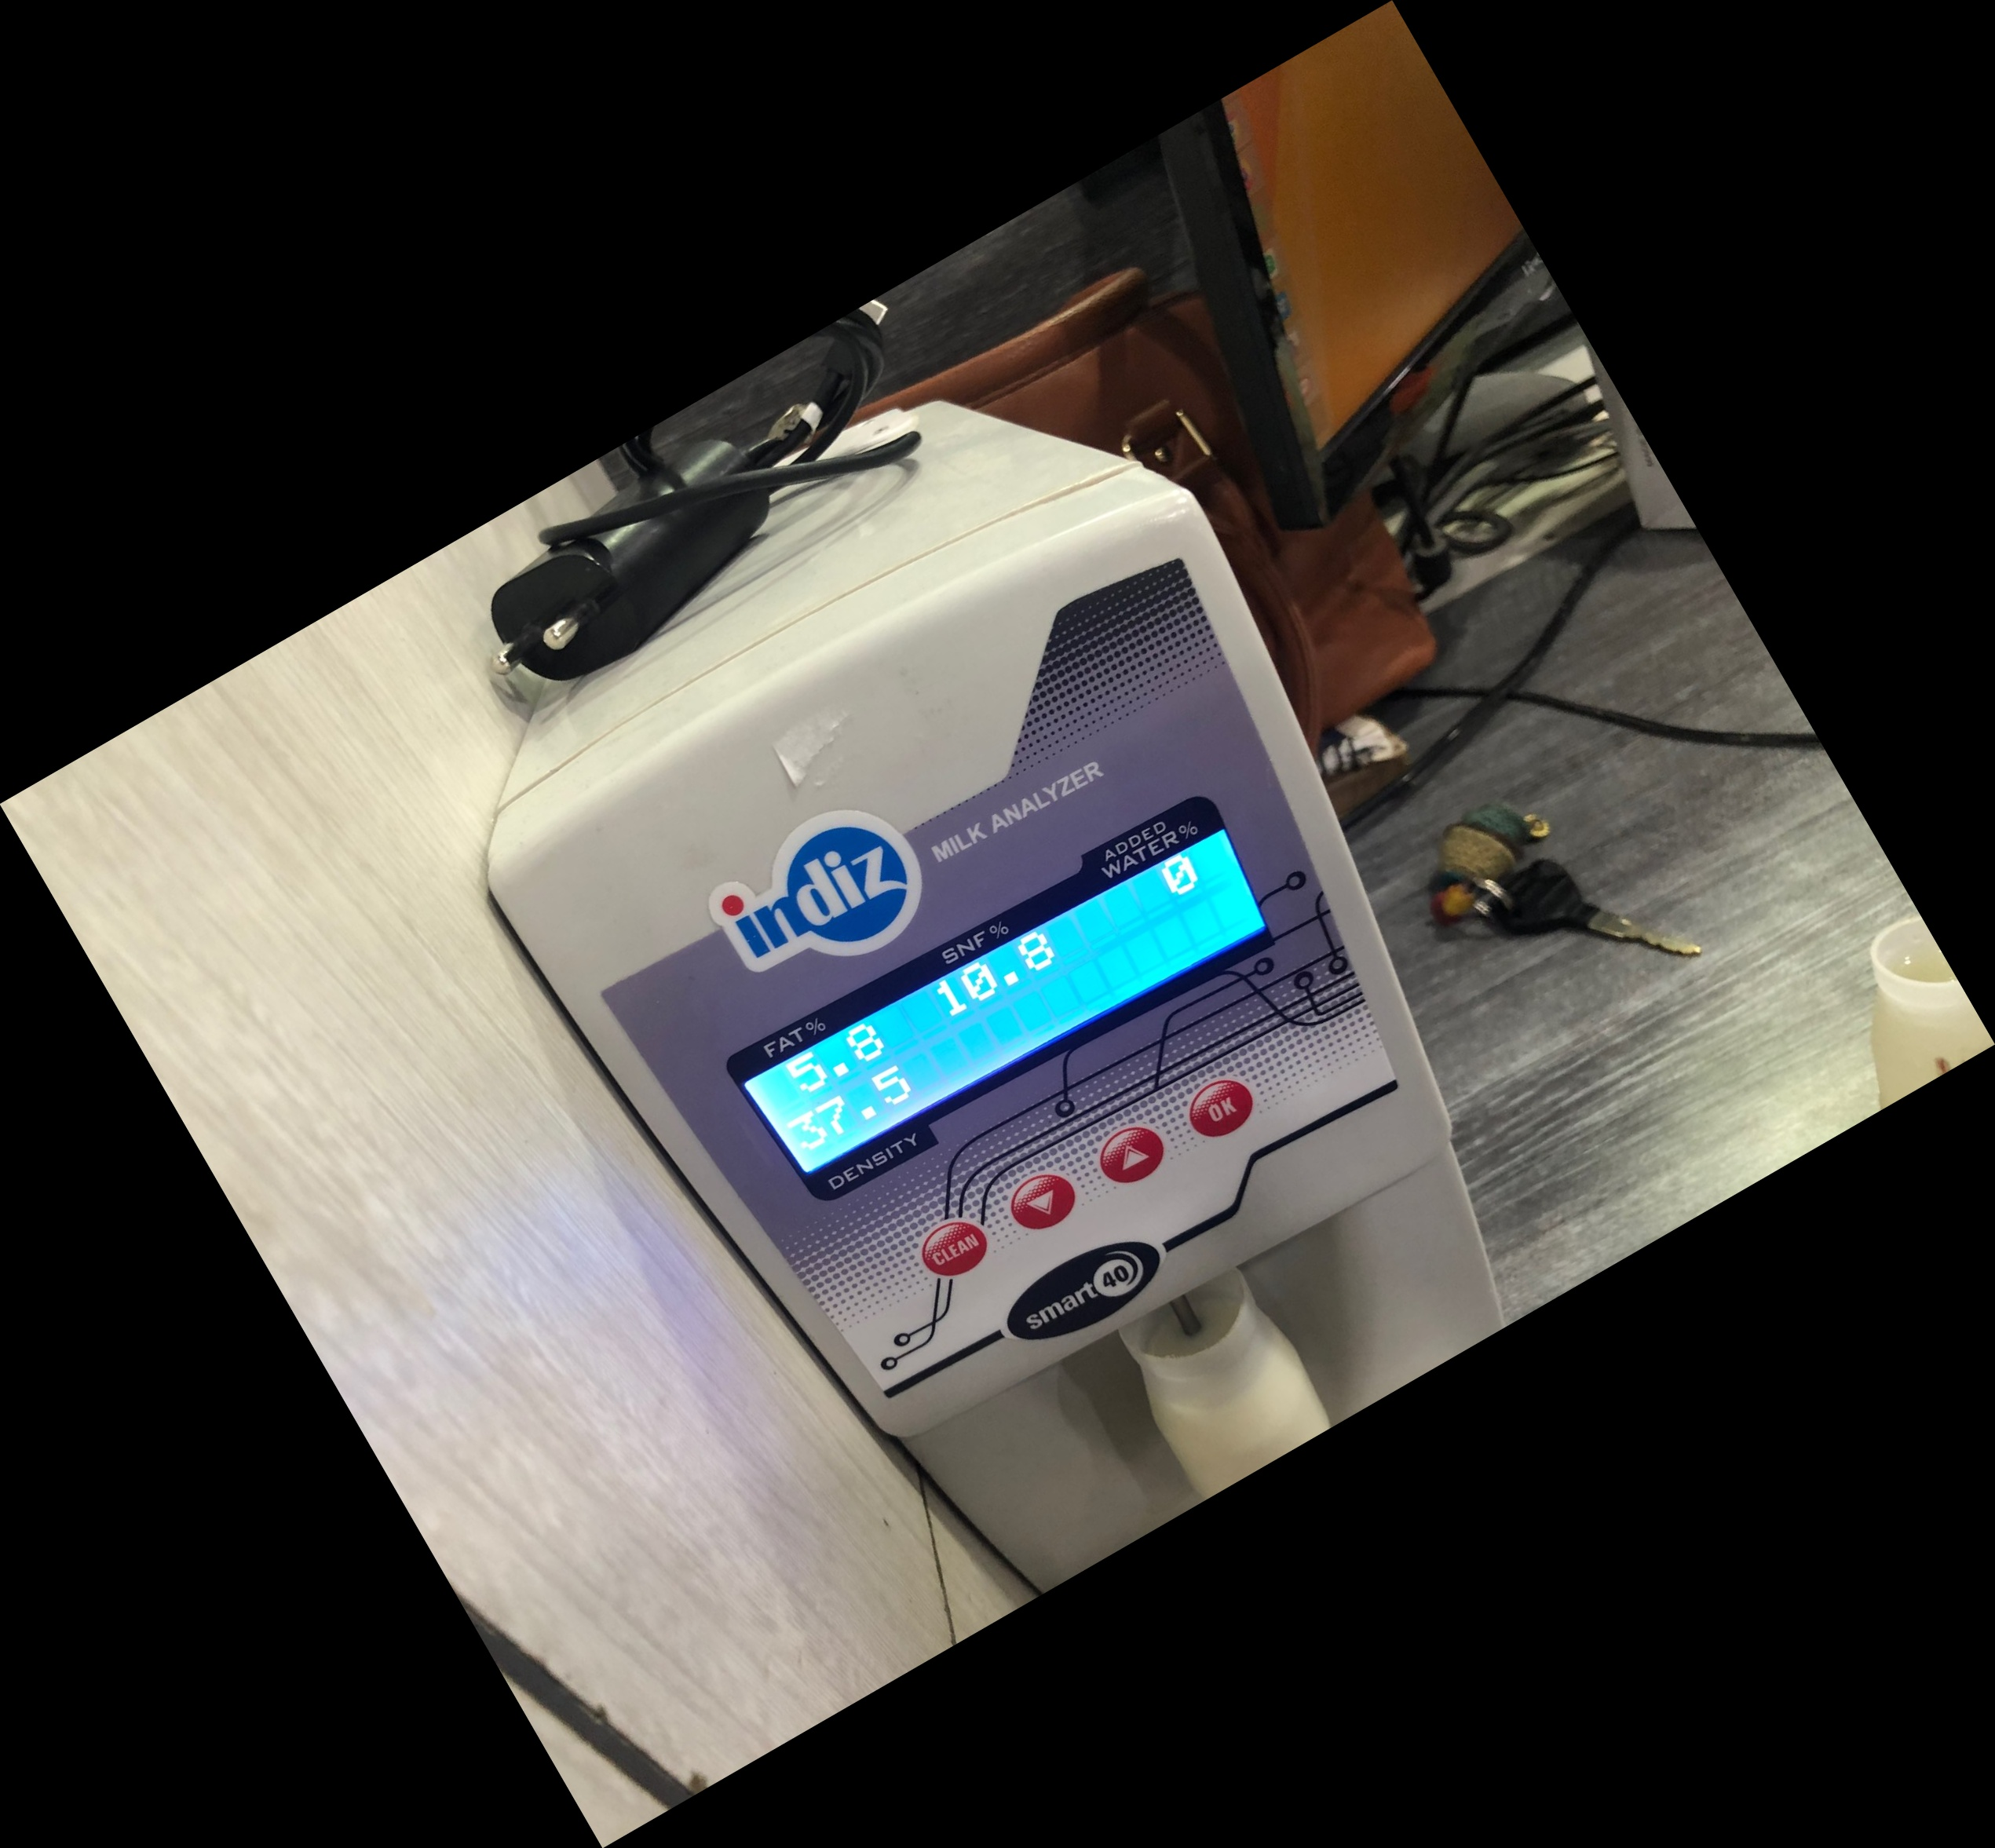lcd: (699, 766, 1288, 1221)
